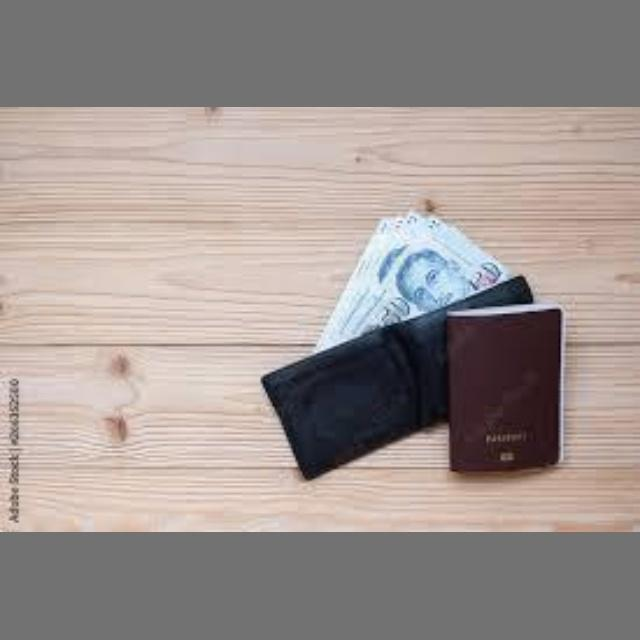Wallet: (262, 276, 534, 480), (442, 306, 582, 468)
